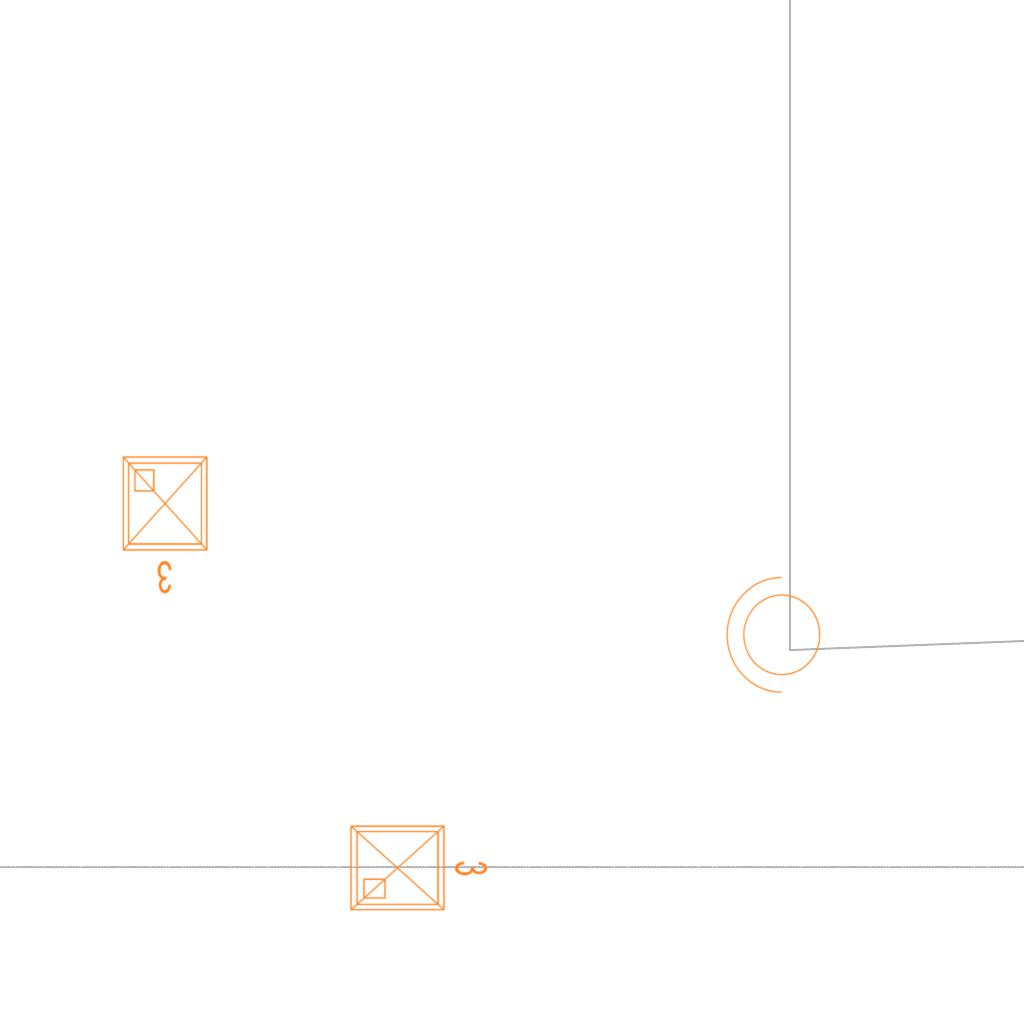Einbaudownlights_LED_Konferenzraeume: (115, 449, 219, 599), (343, 814, 493, 918)
Scheinwerfer_fuer_Alarmbeleuchtung: (721, 572, 833, 704)
